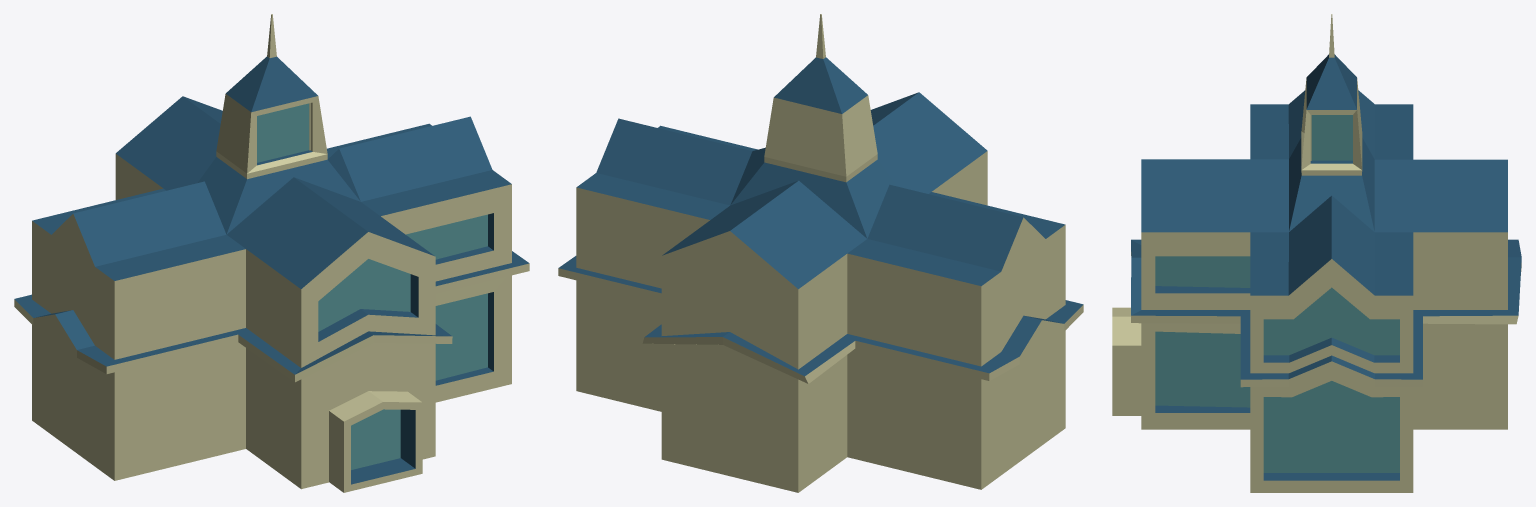
File: NewSchool3.fbx
The picture shows the model from 3 angles, left to right: view 1: azimuth 30°, elevation 25°; view 2: azimuth 150°, elevation 25°; view 3: azimuth 270°, elevation 25°; orthographic projection. The views are drawn at different scales.
Visible parts, largest first — view 1: S3; view 2: S3; view 3: S3.
Part boxes in pixels (bbox=[...]): S3: bbox=[14, 14, 529, 492]; S3: bbox=[558, 14, 1083, 492]; S3: bbox=[1112, 14, 1521, 492].
Size of the model in its own units: 17.95 by 15.53 by 15.05.
